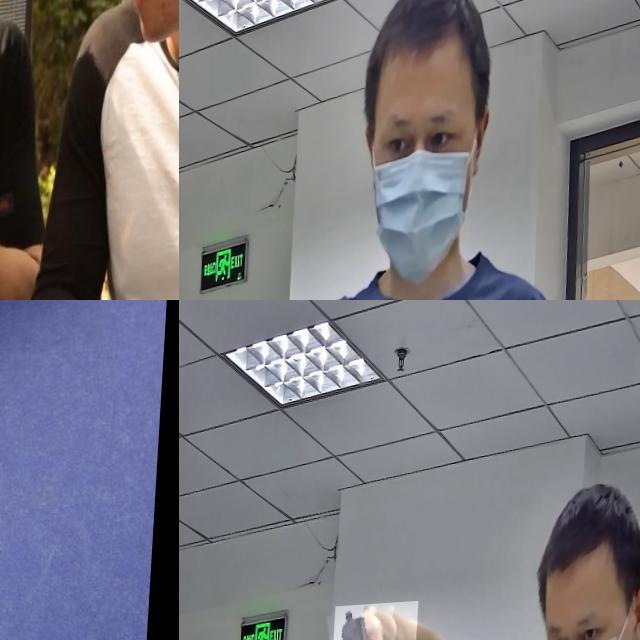-: (0, 300, 172, 640), (0, 33, 45, 239)
